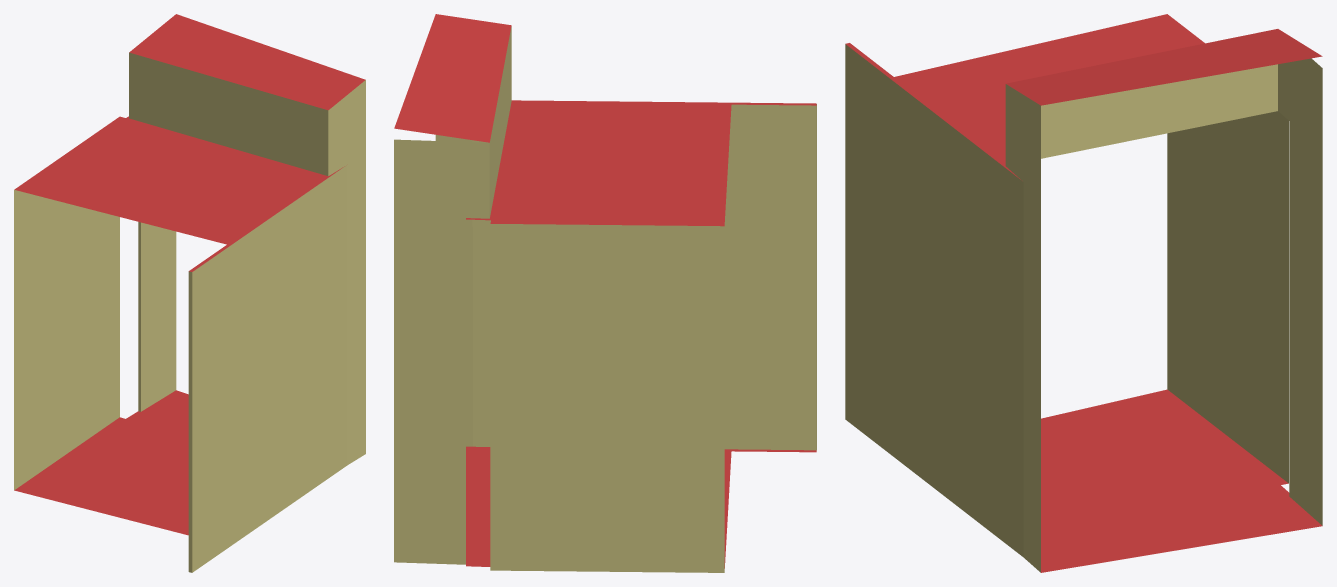
3 views of the same model, side by side, from view 1: azimuth 30°, elevation 25°; view 2: azimuth 150°, elevation 25°; view 3: azimuth 270°, elevation 25° (orthographic). The views are drawn at different scales.
Bounding box in the file's own units: 8.85 × 9.73 × 10.56.
